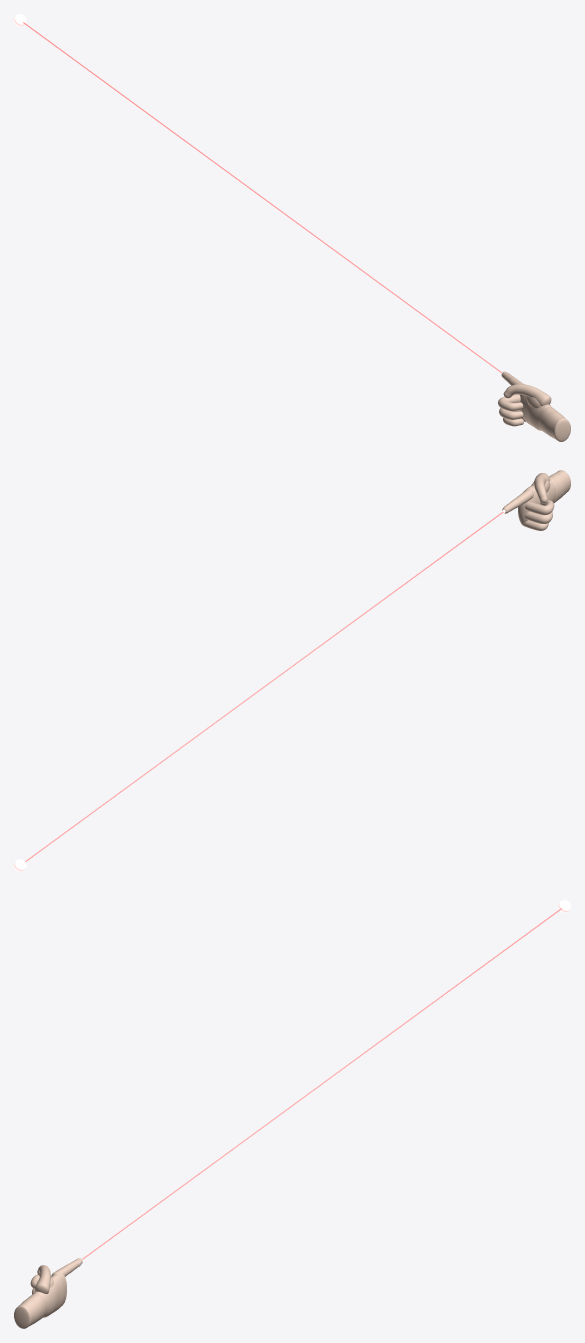
Rendered from vr-hand-laser-right.glb.
3 views of the same model, one above another, from view 1: azimuth 30°, elevation 25°; view 2: azimuth 150°, elevation 25°; view 3: azimuth 330°, elevation 25° (orthographic).
Parts seen in each view (by area): view 1: Hand, LaserBeam; view 2: Hand, LaserBeam; view 3: Hand, LaserBeam.
Boxes of the visible parts, x1,y1,x2,y2 form: Hand: (498, 371, 570, 441); LaserBeam: (23, 22, 501, 372); Hand: (502, 470, 570, 530); LaserBeam: (25, 512, 503, 861); Hand: (14, 1258, 82, 1328); LaserBeam: (82, 908, 561, 1259).
Size of the model in its own units: 0.0837 by 0.0964 by 2.26.
